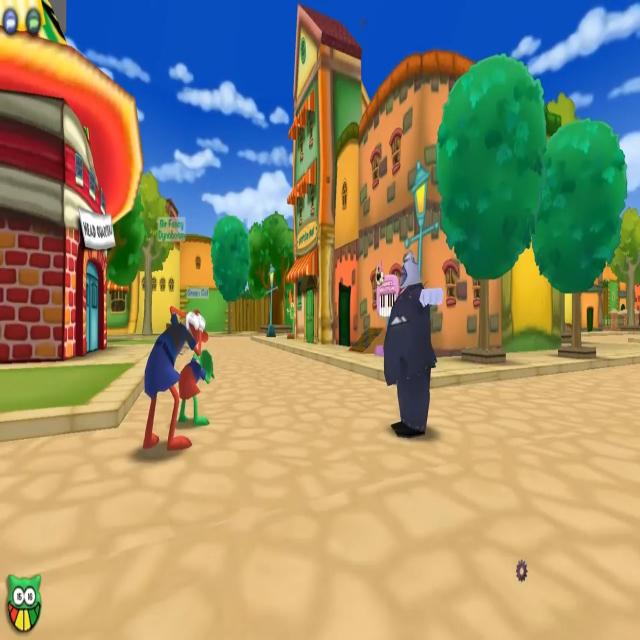bottomfeeder: (376, 248, 444, 446)
